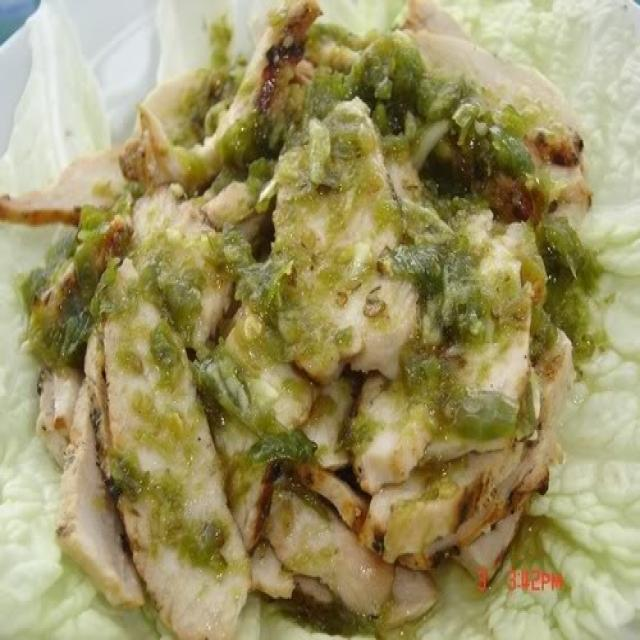猪肉菜式: (26, 12, 602, 621)
